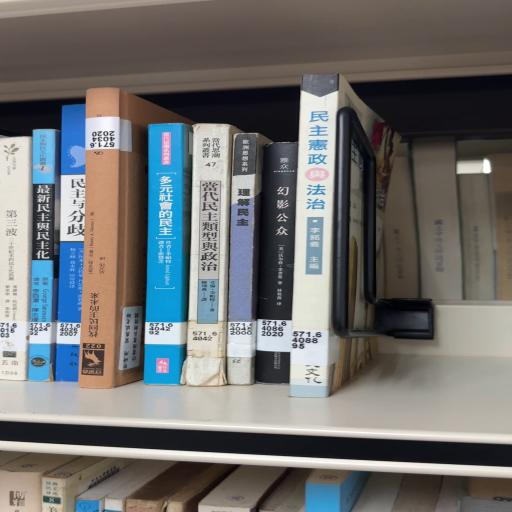reverse: (79, 89, 195, 389)
